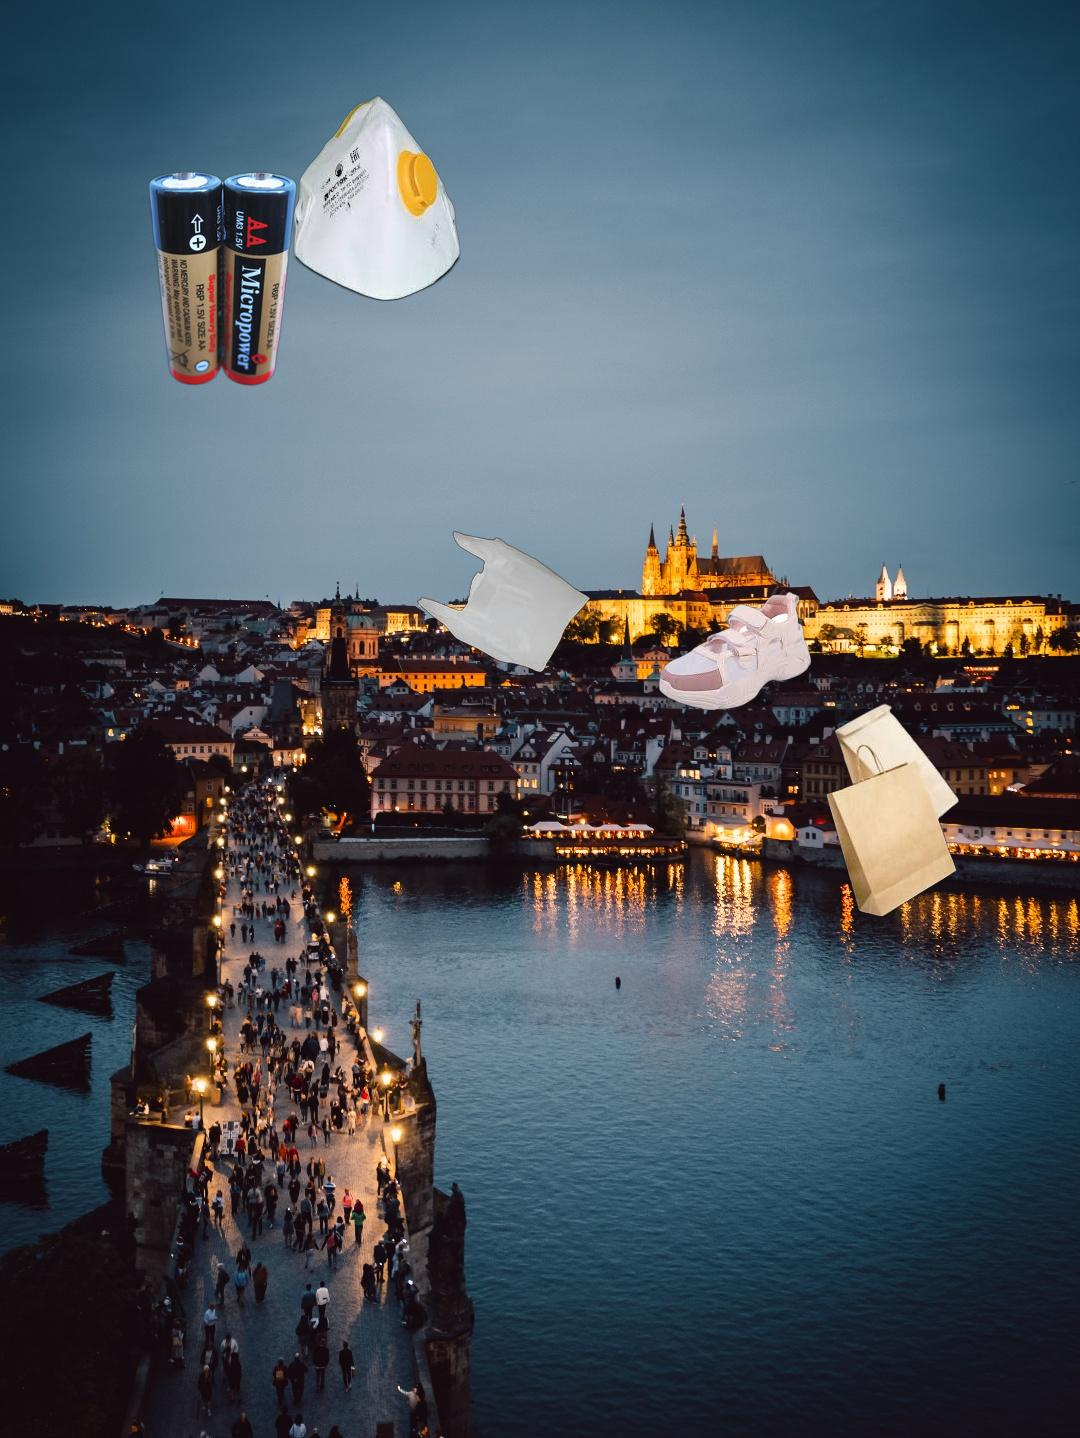battery: (147, 171, 354, 388)
paper-bag: (825, 702, 960, 920)
plastic-bag: (415, 528, 593, 674)
shoes: (656, 589, 815, 713)
trash: (290, 93, 463, 303)
trashbox-cardboard: (554, 1162, 1080, 1438)
